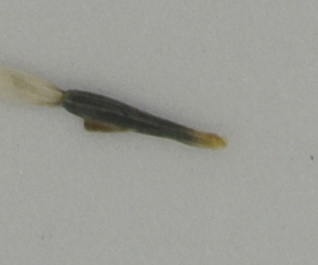เมล็ดงอกแตก: (1, 66, 228, 151)
